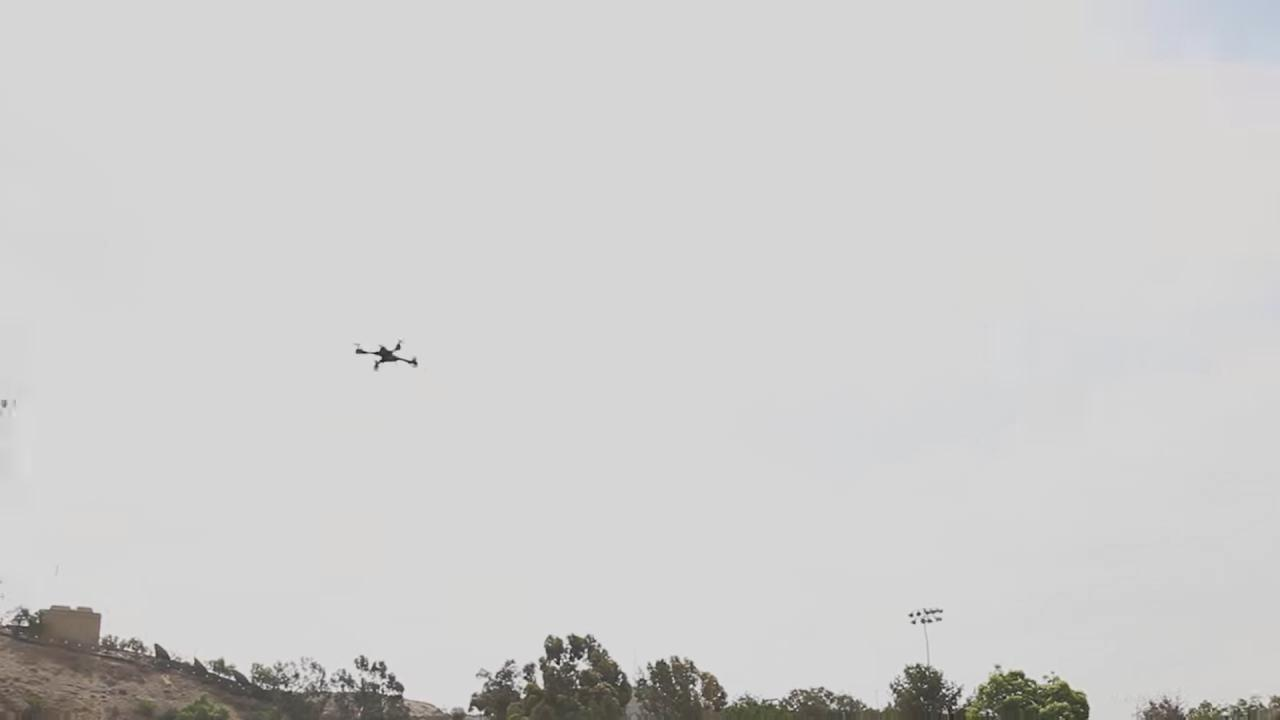Drone: (337, 324, 434, 388)
